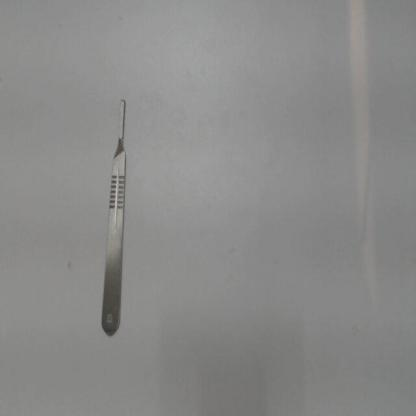No.4 BP Handle: (96, 94, 132, 354)
